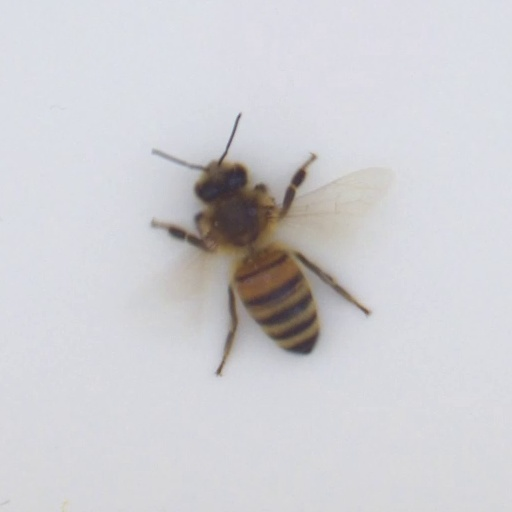Bee: (181, 158, 332, 361)
Thorax: (204, 187, 274, 248)
